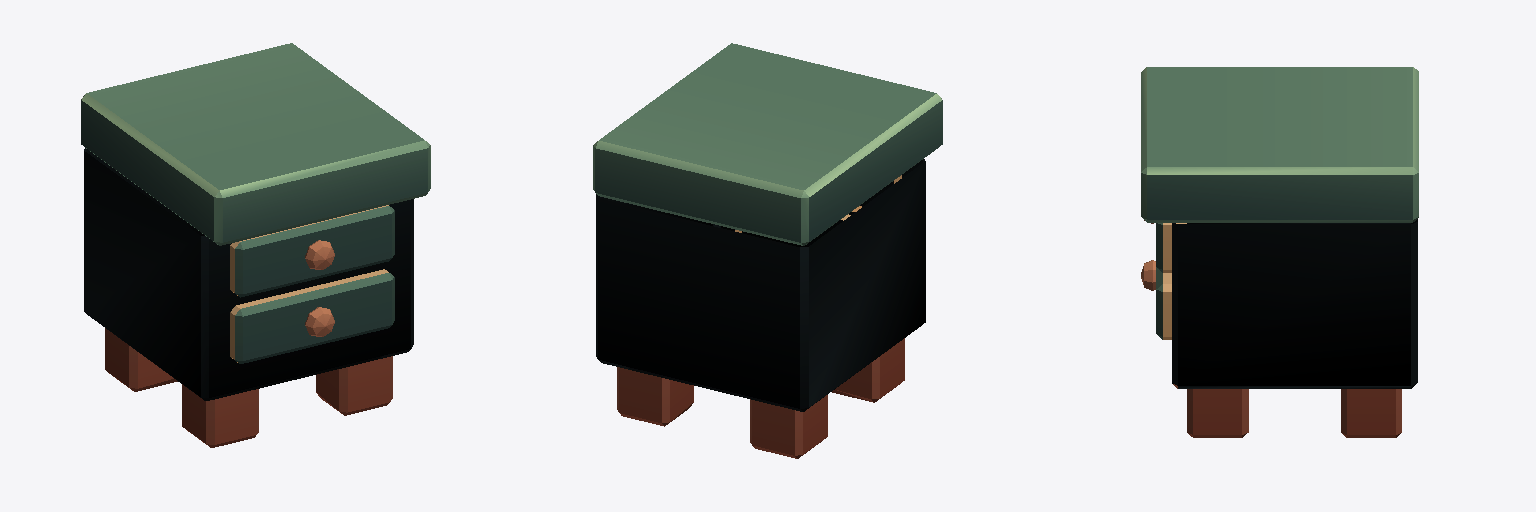
3 views of the same model, side by side, from view 1: azimuth 30°, elevation 25°; view 2: azimuth 150°, elevation 25°; view 3: azimuth 270°, elevation 25° (orthographic).
Parts seen in each view (by area): view 1: cabinet_small_Cube.013; view 2: cabinet_small_Cube.013; view 3: cabinet_small_Cube.013.
Boxes of the visible parts, <box> form: cabinet_small_Cube.013: <box>81,43,430,447</box>; cabinet_small_Cube.013: <box>593,43,942,458</box>; cabinet_small_Cube.013: <box>1141,67,1418,437</box>.
Size of the model in its own units: 0.8125 by 1 by 0.9078.
1 materials, 1 textured.